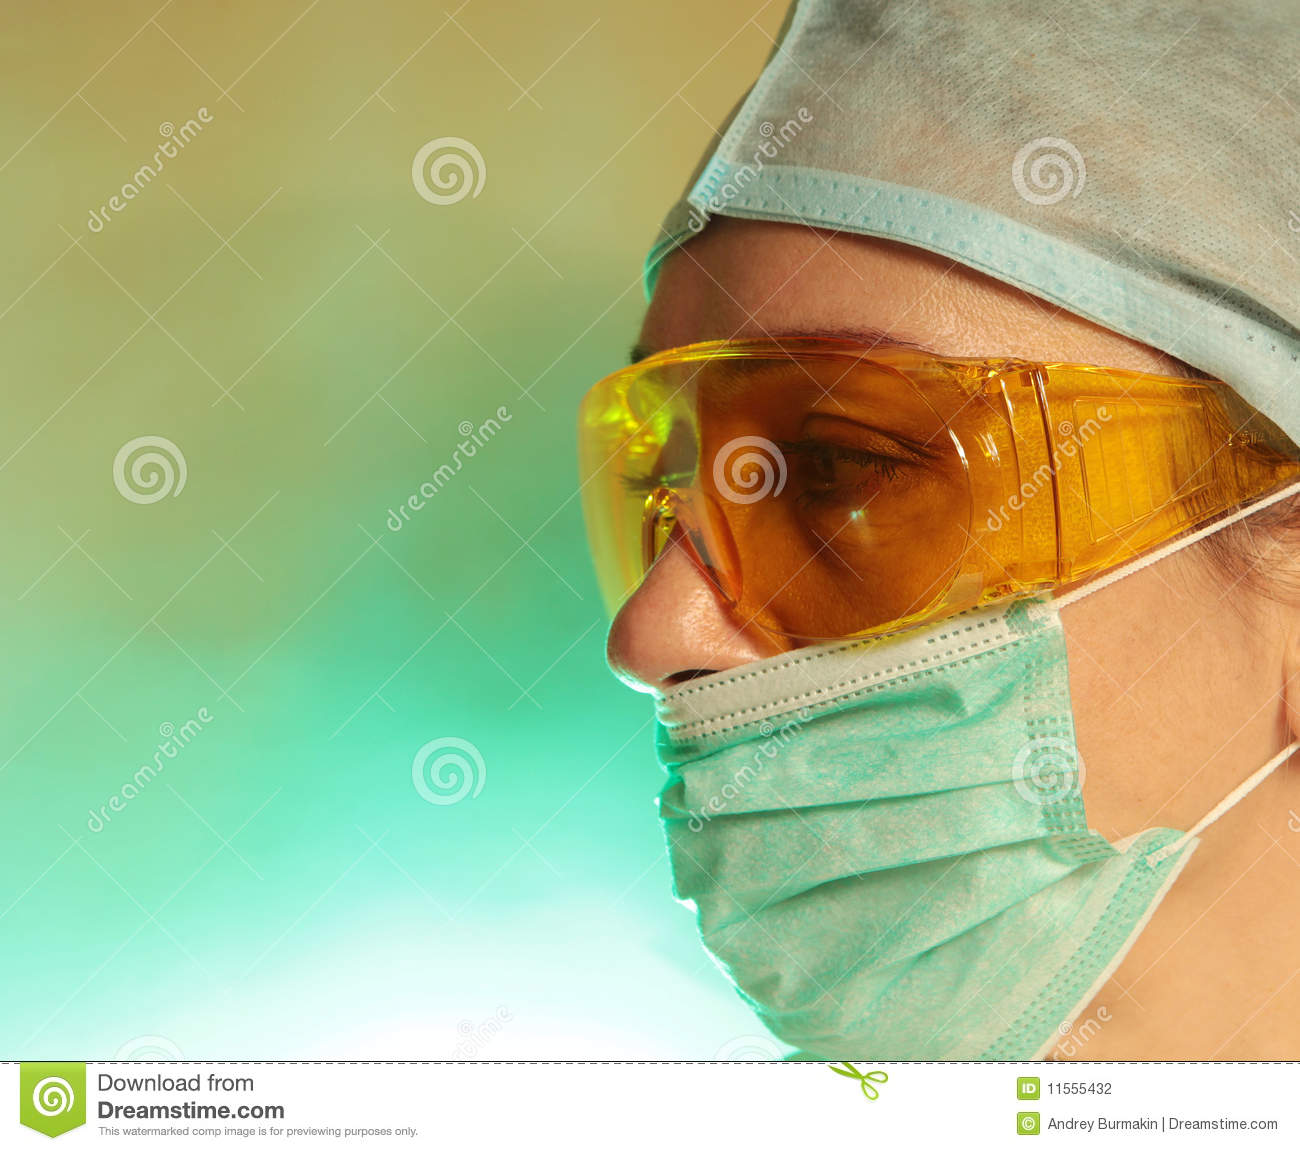mask: (656, 595, 1199, 1064)
